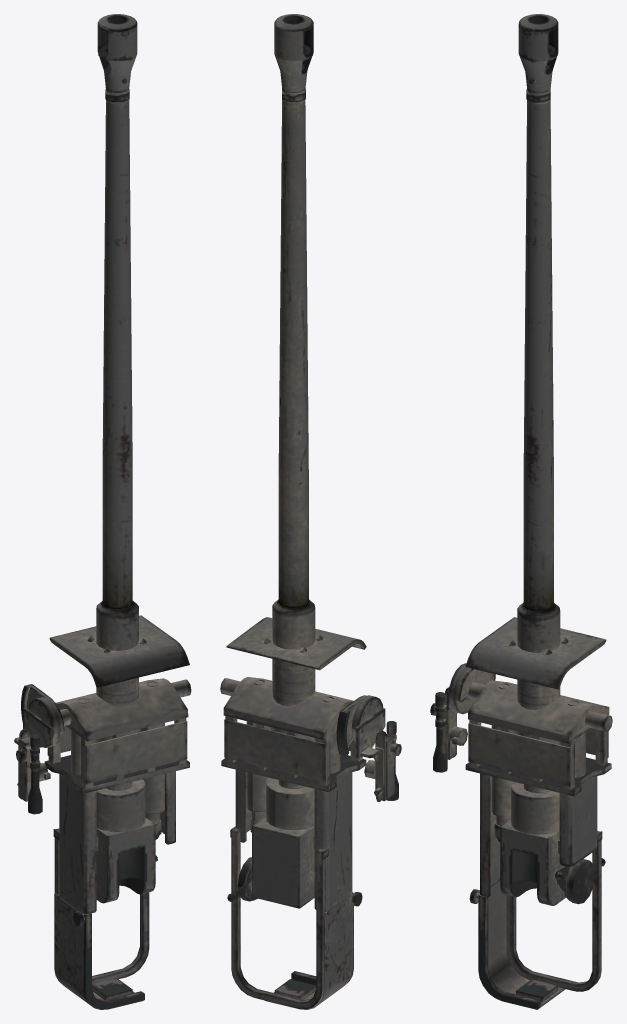
The model's file is Gun_01.glb.
The picture shows the model from 3 angles, left to right: view 1: azimuth 30°, elevation 25°; view 2: azimuth 150°, elevation 25°; view 3: azimuth 330°, elevation 25°; orthographic projection.
Visible parts, largest first — view 1: set_0_group_0; view 2: set_0_group_0; view 3: set_0_group_0.
Boxes of the visible parts, x1,y1,x2,y2 form: set_0_group_0: (14, 14, 191, 1009); set_0_group_0: (220, 14, 401, 1009); set_0_group_0: (430, 14, 612, 1009).
Size of the model in its own units: 0.7149 by 3.88 by 0.4711.
Materials: 1 (1 with a texture image).
